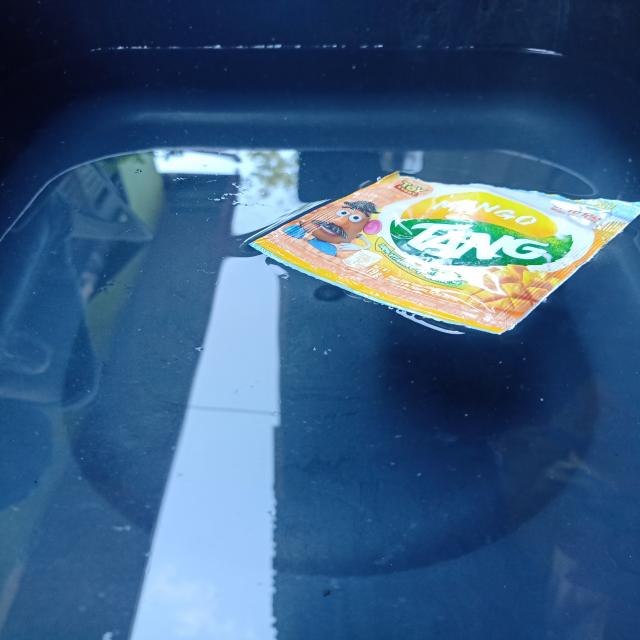Plastic Wrapper: (230, 157, 640, 352)
